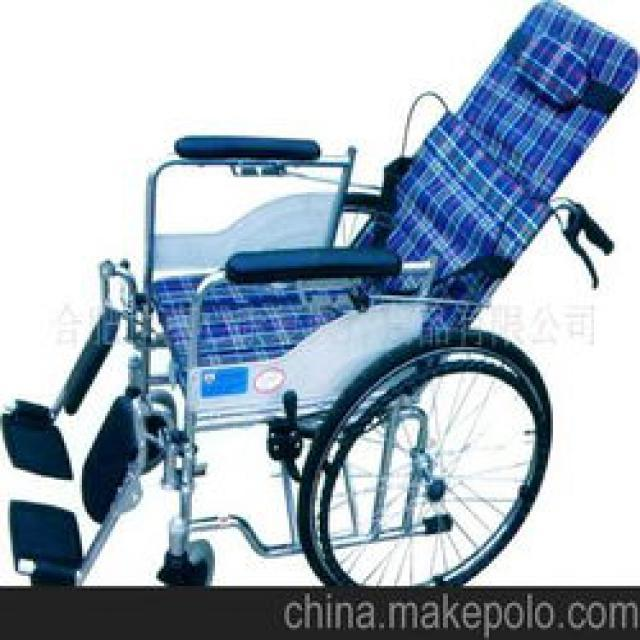wheelchair: (0, 0, 635, 586)
